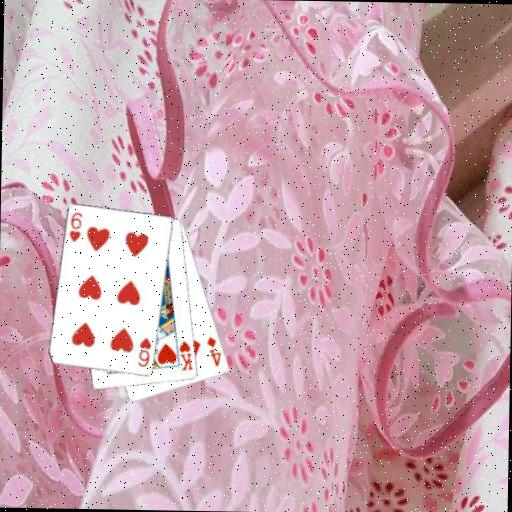4D: (204, 334, 223, 368)
6H: (136, 335, 154, 369), (66, 210, 84, 244)
KH: (176, 339, 195, 373)
